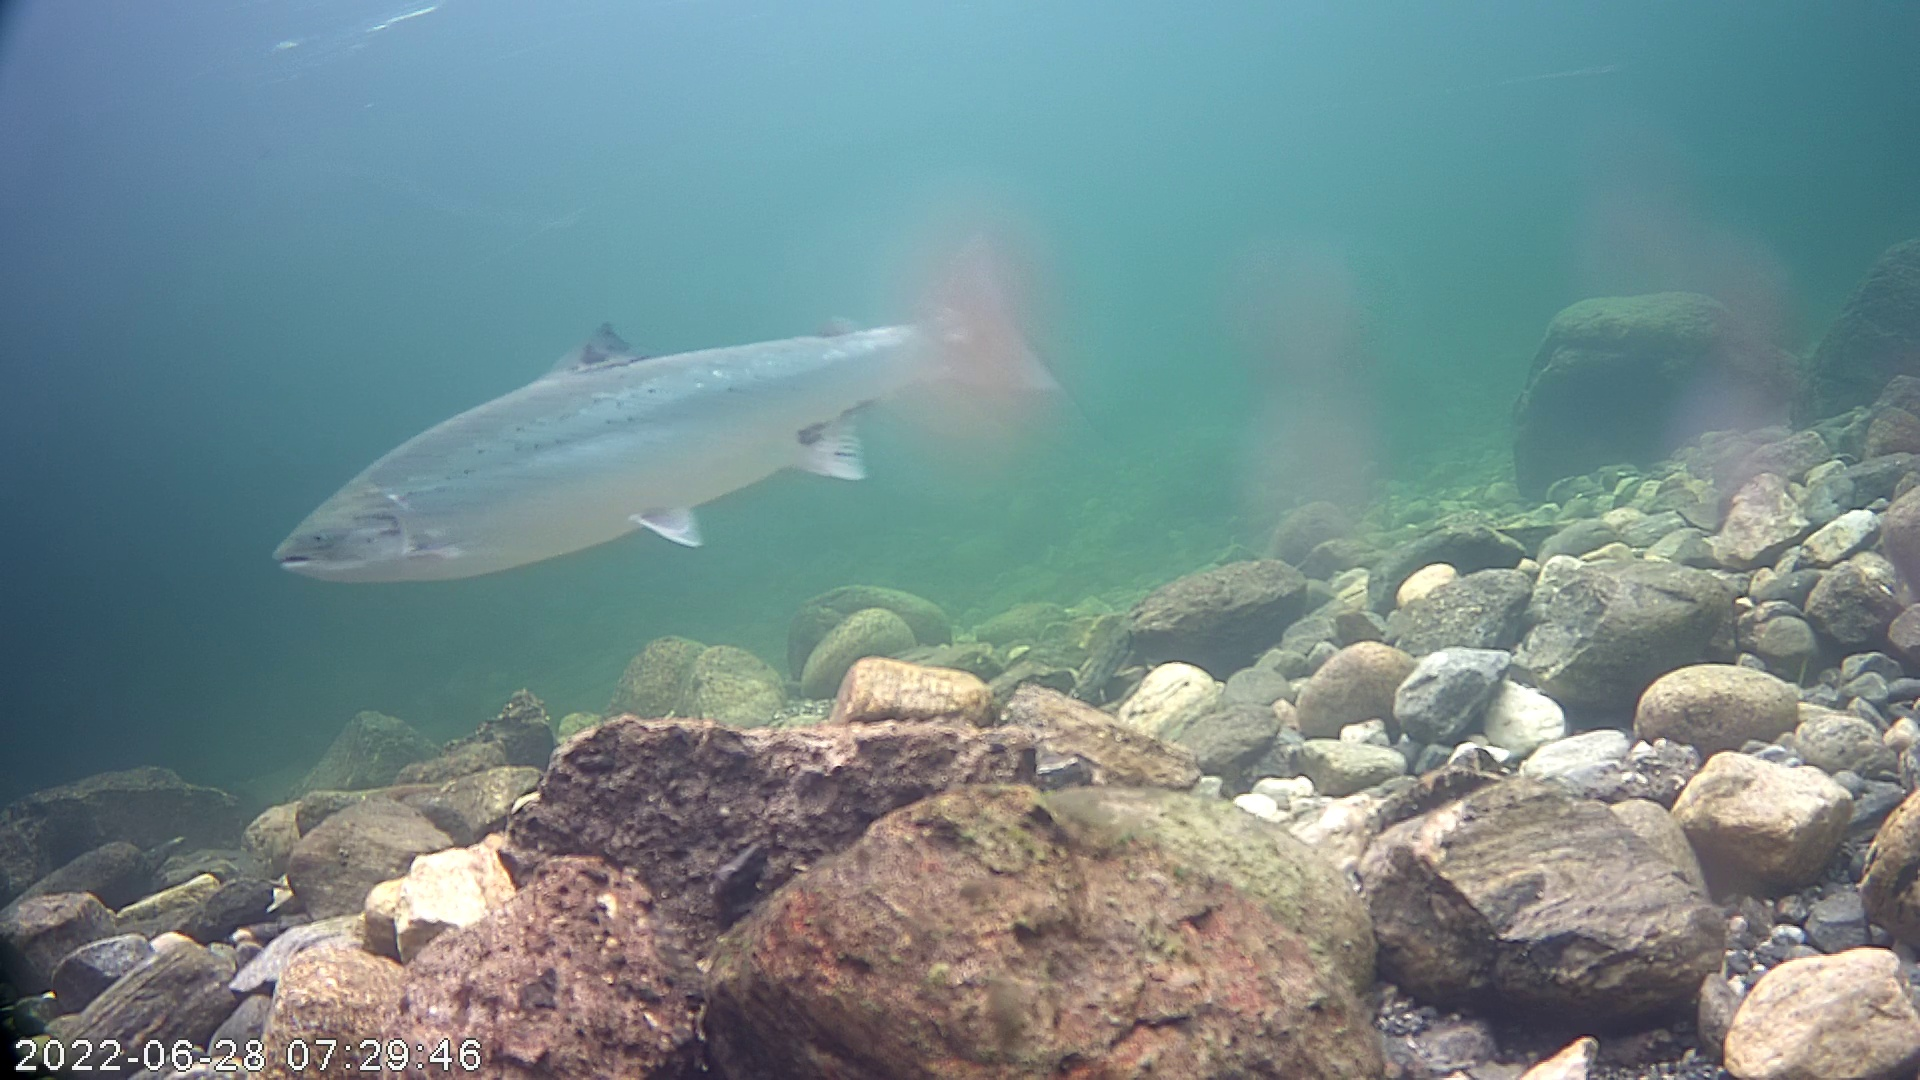salmon: (260, 186, 1096, 628)
